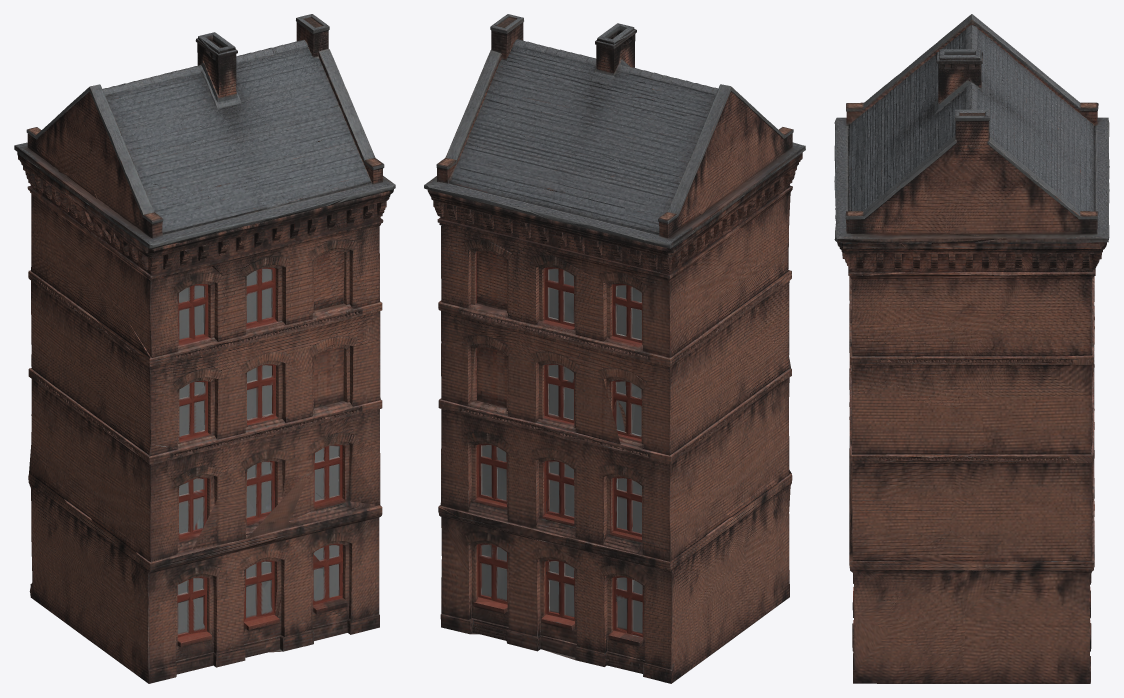
File: colony_house_c1_tall__b.glb
3 views of the same model, side by side, from view 1: azimuth 30°, elevation 25°; view 2: azimuth 150°, elevation 25°; view 3: azimuth 270°, elevation 25° (orthographic).
Bounding box in the file's own units: 0.8553 × 1.9 × 0.8217.
Materials: 1 (1 with a texture image).
